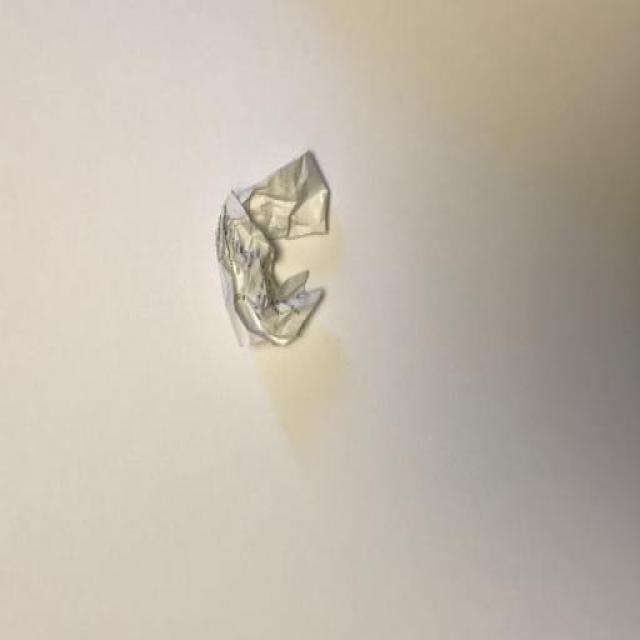paper: (184, 137, 375, 418)
